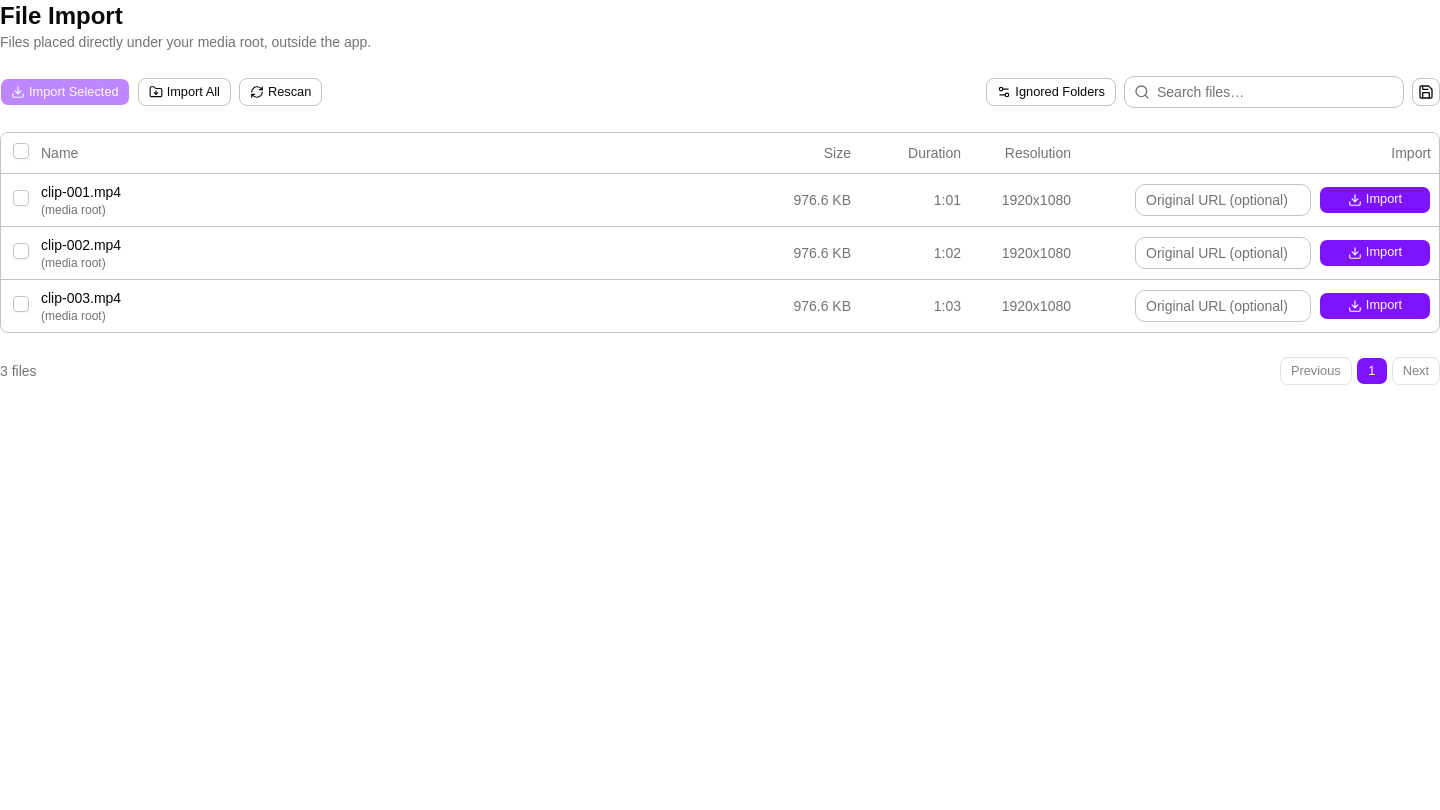
Scenario: ImportPage table › importing › Import Selected can be cancelled
The width and height of the screenshot is (1440, 810).
Expected: the text "clip-001.mp4" is shown, x1=41 y1=184 x2=121 y2=200
Press the mouse on the text "clip-001.mp4": (720, 200) x1=1 y1=173 x2=1439 y2=226
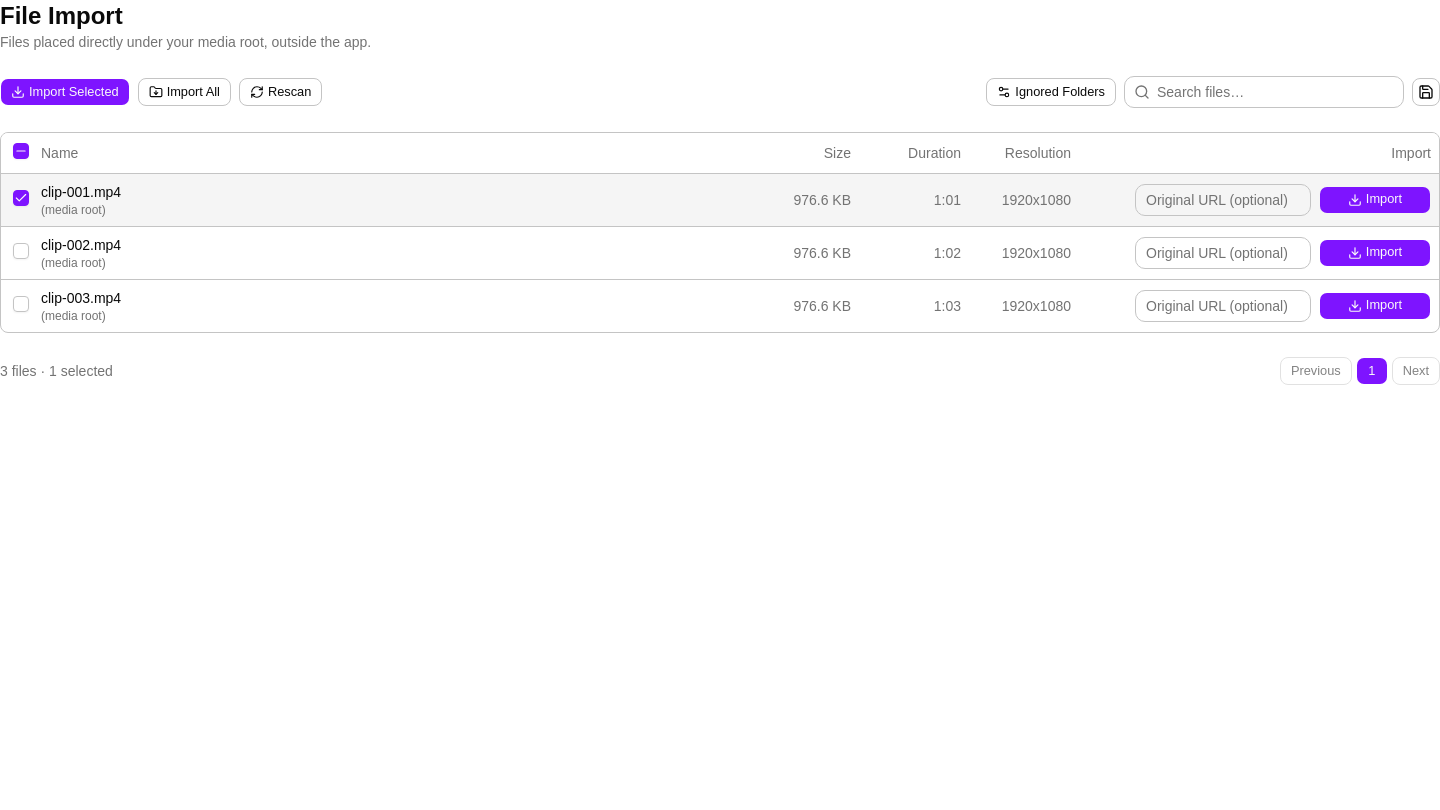
Click the button "Import Selected": click(65, 92) x1=0 y1=78 x2=130 y2=106
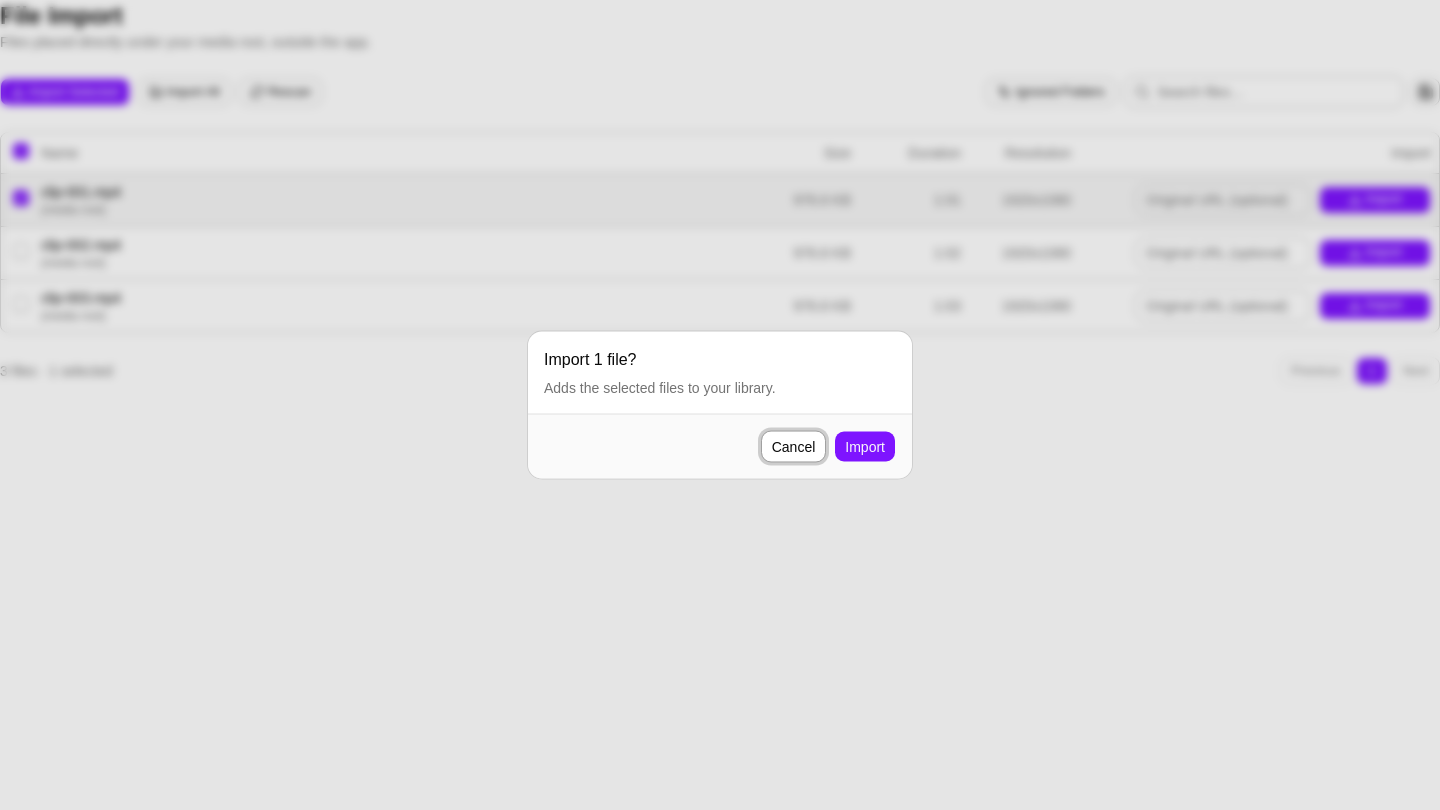
Click the button "Cancel": click(794, 446) x1=761 y1=430 x2=826 y2=462
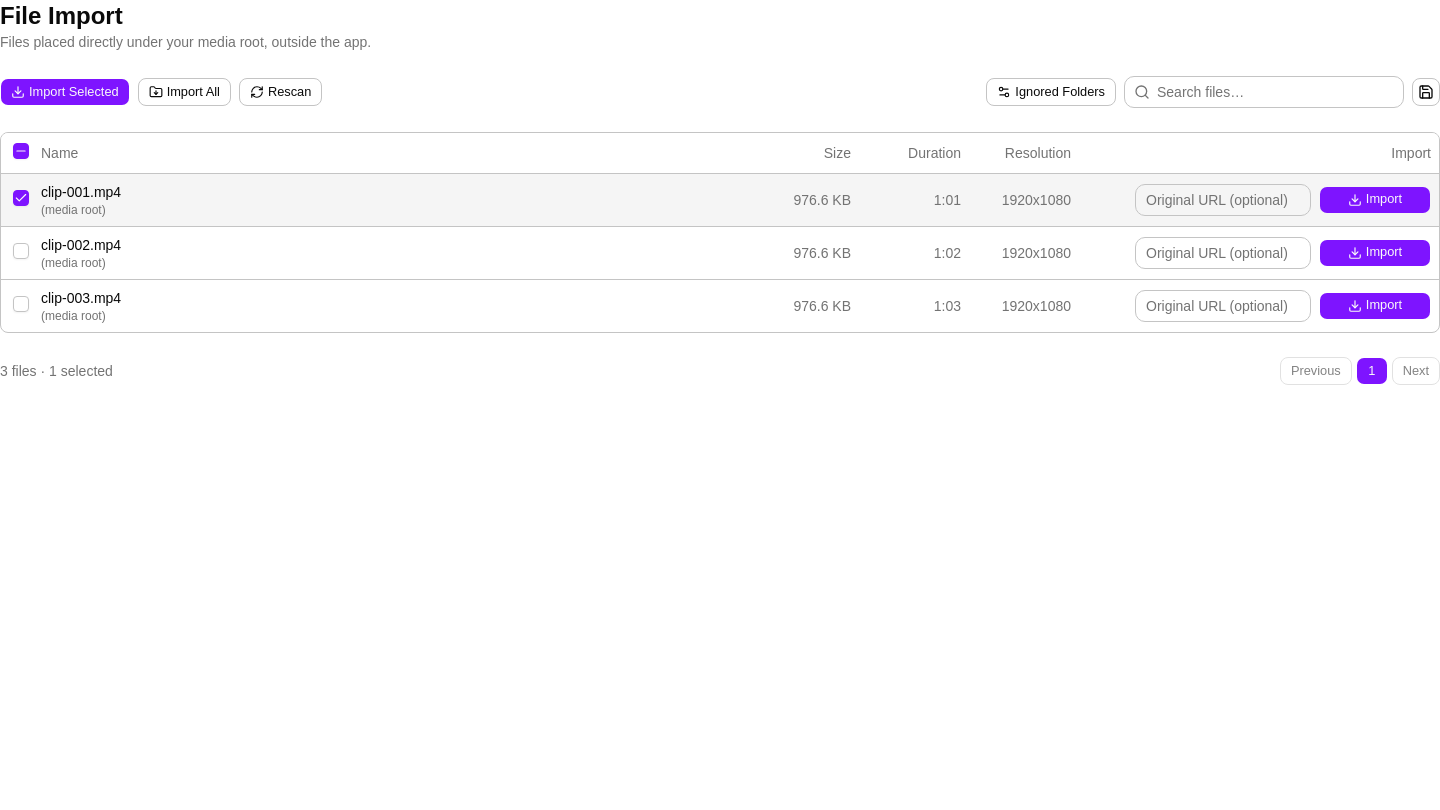
Now the dialog is gone
